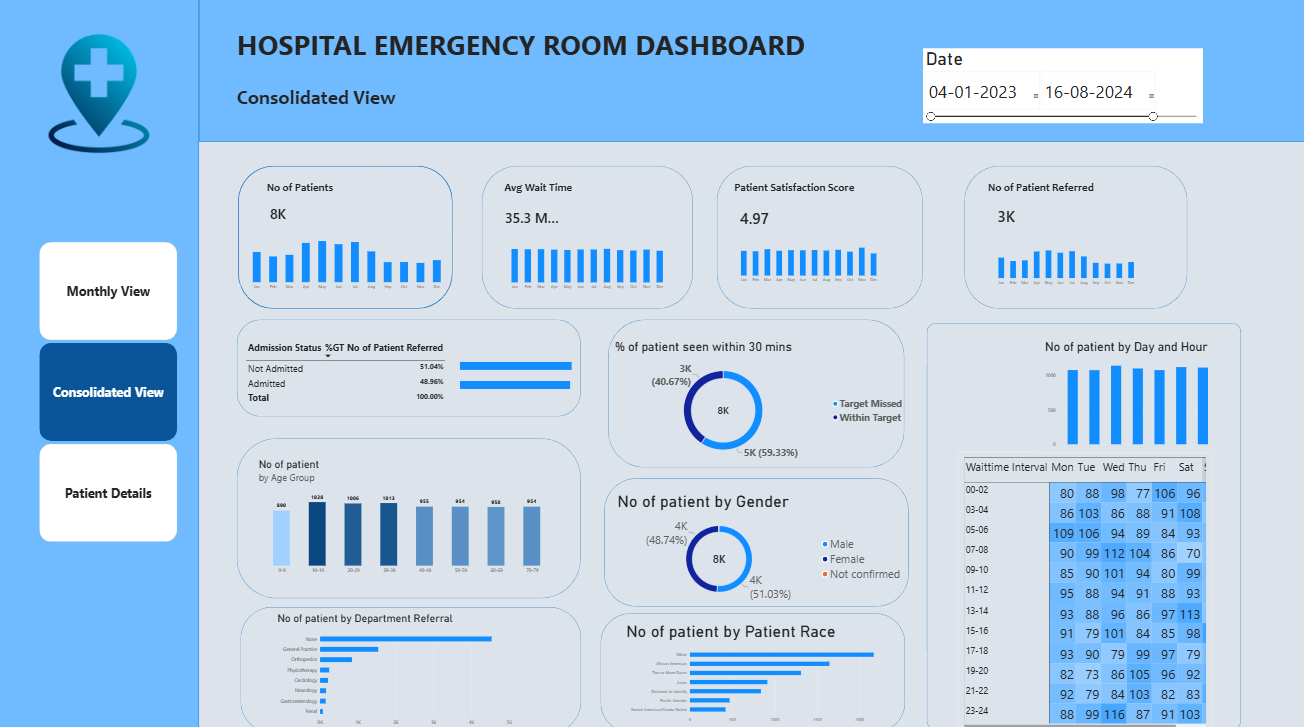

Layout of this report page (visuals, bound fields, positions):
{"tool":"powerbi","page":{"name":"Consolidated View","canvas":[3840,2160],"ordinal":1},"visuals":[{"type":"shape","box":[0,0,590,2160],"z":0},{"type":"shape","box":[590,0,3250,425],"z":1000},{"type":"textbox","box":[700,255,550,115],"z":2000},{"type":"cardVisual","fields":{"Data":["Hospital ER_Data.No of patient"]},"box":[780,495,325,275],"z":3000},{"type":"slicer","fields":{"Values":["Date Table.Date"]},"box":[2715,150,820,220],"z":4000},{"type":"shape","box":[705,495,630,420],"z":6000},{"type":"textbox","box":[790,540,375,80],"z":7000},{"type":"columnChart","fields":{"Category":["Date Table.Month Name"],"Y":["Hospital ER_Data.No of patient"]},"box":[710,680,625,200],"z":8000},{"type":"shape","box":[2835,495,655,420],"z":10000},{"type":"shape","box":[1420,495,620,420],"z":11000},{"type":"shape","box":[2110,495,605,420],"z":12000},{"type":"textbox","box":[1485,540,350,75],"z":13000},{"type":"cardVisual","fields":{"Data":["Hospital ER_Data.Avg Wait Time"]},"box":[1470,520,190,250],"z":14000},{"type":"columnChart","fields":{"Category":["Date Table.Month Name"],"Y":["Avg(Hospital ER_Data.Patient Waittime)"]},"box":[1475,705,510,175],"z":15000},{"type":"textbox","box":[2160,540,450,60],"z":16000},{"type":"cardVisual","fields":{"Data":["Hospital ER_Data.Satisfaction Score"]},"box":[2160,600,220,90],"z":17000},{"type":"columnChart","fields":{"Category":["Date Table.Month Name"],"Y":["Hospital ER_Data.Satisfaction Score"]},"box":[2150,705,460,155],"z":18000},{"type":"textbox","box":[2905,540,460,60],"z":19000},{"type":"cardVisual","fields":{"Data":["Hospital ER_Data.No of Patient Referred"]},"box":[2915,595,150,94],"z":20000},{"type":"columnChart","fields":{"Category":["Date Table.Month Name"],"Y":["Hospital ER_Data.No of Patient Referred"]},"box":[2905,710,460,155],"z":21000},{"type":"pivotTable","fields":{"Rows":["Hospital ER_Data.Admission Status"],"Values":["Hospital ER_Data.No of Patient Referred"]},"box":[710,990,627.5,237.5],"z":22000},{"type":"shape","box":[700,1295,1010,470],"z":23000},{"type":"barChart","fields":{"Category":["Hospital ER_Data.Admission Status"],"Y":["Hospital ER_Data.No of patient"]},"box":[1340,1020,370,180],"z":24000},{"type":"shape","box":[700,945,1010,285],"z":25000},{"type":"clusteredColumnChart","fields":{"Category":["Hospital ER_Data.Age Group"],"Y":["Hospital ER_Data.No of patient"]},"box":[750,1340,905,375],"z":26000},{"type":"clusteredBarChart","title":"No of patient by Department Referral","fields":{"Category":["Hospital ER_Data.Department Referral"],"Y":["Hospital ER_Data.No of patient"]},"box":[805,1790,721.8,370.5],"z":27000},{"type":"shape","box":[710,1790,1000,370],"z":28000},{"type":"textbox","box":[3690,425,150,1735],"z":29000},{"type":"textbox","box":[700,85,1715,130],"z":30000},{"type":"shape","box":[1790,945,870,435],"z":31000},{"type":"donutChart","title":"% of patient seen within 30 mins","fields":{"Category":["Hospital ER_Data.Waittime Status"],"Y":["Hospital ER_Data.No of patient"]},"box":[1794,990,886,390],"z":32000},{"type":"shape","box":[1780,1413.3,893.3,376.7],"z":33000},{"type":"donutChart","title":"No of patient by Gender","fields":{"Category":["Hospital ER_Data.Patient Gender"],"Y":["Hospital ER_Data.No of patient"]},"box":[1800,1436.7,873.3,353.3],"z":34000},{"type":"shape","box":[1770,1810,894,350],"z":35000},{"type":"clusteredBarChart","fields":{"Category":["Hospital ER_Data.Patient Race"],"Y":["Hospital ER_Data.No of patient"]},"box":[1826,1820,782,330],"z":36000},{"type":"shape","box":[2727.5,957.5,922.5,1192.5],"z":37000},{"type":"pivotTable","fields":{"Columns":["Date Table.Date Name"],"Rows":["Hospital ER_Data.Waittime Interval"],"Values":["Hospital ER_Data.No of patient"]},"box":[2817.5,1335,745,825],"z":38000},{"type":"columnChart","title":"No of patient by Day and Hour","fields":{"Category":["Date Table.Day Name"],"Y":["Hospital ER_Data.No of patient"]},"box":[3055,990,540,350],"z":39000},{"type":"image","box":[120,75,350,420],"z":40000},{"type":"pageNavigator","box":[120,720,405,880],"z":40001}]}

Visuals, with their boxes in screenshot pixels (x1, y1, x2, y2), scaled from the page's 3840x2160 canvas onto the 1304x727 screenshot:
shape: {"x1": 0, "y1": 0, "x2": 200, "y2": 726}
shape: {"x1": 200, "y1": 0, "x2": 1303, "y2": 143}
textbox: {"x1": 238, "y1": 86, "x2": 424, "y2": 125}
cardVisual - Hospital ER_Data.No of patient: {"x1": 265, "y1": 167, "x2": 375, "y2": 259}
slicer - Date Table.Date: {"x1": 922, "y1": 50, "x2": 1200, "y2": 125}
shape: {"x1": 239, "y1": 167, "x2": 453, "y2": 308}
textbox: {"x1": 268, "y1": 182, "x2": 396, "y2": 209}
columnChart - Date Table.Month Name x Hospital ER_Data.No of patient: {"x1": 241, "y1": 229, "x2": 453, "y2": 296}
shape: {"x1": 963, "y1": 167, "x2": 1185, "y2": 308}
shape: {"x1": 482, "y1": 167, "x2": 693, "y2": 308}
shape: {"x1": 717, "y1": 167, "x2": 922, "y2": 308}
textbox: {"x1": 504, "y1": 182, "x2": 623, "y2": 207}
cardVisual - Hospital ER_Data.Avg Wait Time: {"x1": 499, "y1": 175, "x2": 564, "y2": 259}
columnChart - Date Table.Month Name x Avg(Hospital ER_Data.Patient Waittime): {"x1": 501, "y1": 237, "x2": 674, "y2": 296}
textbox: {"x1": 734, "y1": 182, "x2": 886, "y2": 202}
cardVisual - Hospital ER_Data.Satisfaction Score: {"x1": 734, "y1": 202, "x2": 808, "y2": 232}
columnChart - Date Table.Month Name x Hospital ER_Data.Satisfaction Score: {"x1": 730, "y1": 237, "x2": 886, "y2": 289}
textbox: {"x1": 986, "y1": 182, "x2": 1143, "y2": 202}
cardVisual - Hospital ER_Data.No of Patient Referred: {"x1": 990, "y1": 200, "x2": 1041, "y2": 232}
columnChart - Date Table.Month Name x Hospital ER_Data.No of Patient Referred: {"x1": 986, "y1": 239, "x2": 1143, "y2": 291}
pivotTable - Hospital ER_Data.Admission Status x Hospital ER_Data.No of Patient Referred: {"x1": 241, "y1": 333, "x2": 454, "y2": 413}
shape: {"x1": 238, "y1": 436, "x2": 581, "y2": 594}
barChart - Hospital ER_Data.Admission Status x Hospital ER_Data.No of patient: {"x1": 455, "y1": 343, "x2": 581, "y2": 404}
shape: {"x1": 238, "y1": 318, "x2": 581, "y2": 414}
clusteredColumnChart - Hospital ER_Data.Age Group x Hospital ER_Data.No of patient: {"x1": 255, "y1": 451, "x2": 562, "y2": 577}
"No of patient by Department Referral" clusteredBarChart: {"x1": 273, "y1": 602, "x2": 518, "y2": 726}
shape: {"x1": 241, "y1": 602, "x2": 581, "y2": 726}
textbox: {"x1": 1253, "y1": 143, "x2": 1303, "y2": 726}
textbox: {"x1": 238, "y1": 29, "x2": 820, "y2": 72}
shape: {"x1": 608, "y1": 318, "x2": 903, "y2": 464}
"% of patient seen within 30 mins" donutChart: {"x1": 609, "y1": 333, "x2": 910, "y2": 464}
shape: {"x1": 604, "y1": 476, "x2": 908, "y2": 602}
"No of patient by Gender" donutChart: {"x1": 611, "y1": 484, "x2": 908, "y2": 602}
shape: {"x1": 601, "y1": 609, "x2": 905, "y2": 726}
clusteredBarChart - Hospital ER_Data.Patient Race x Hospital ER_Data.No of patient: {"x1": 620, "y1": 613, "x2": 886, "y2": 724}
shape: {"x1": 926, "y1": 322, "x2": 1239, "y2": 724}
pivotTable - Date Table.Date Name x Hospital ER_Data.Waittime Interval: {"x1": 957, "y1": 449, "x2": 1210, "y2": 726}
"No of patient by Day and Hour" columnChart: {"x1": 1037, "y1": 333, "x2": 1221, "y2": 451}
image: {"x1": 41, "y1": 25, "x2": 160, "y2": 167}
pageNavigator: {"x1": 41, "y1": 242, "x2": 178, "y2": 539}
